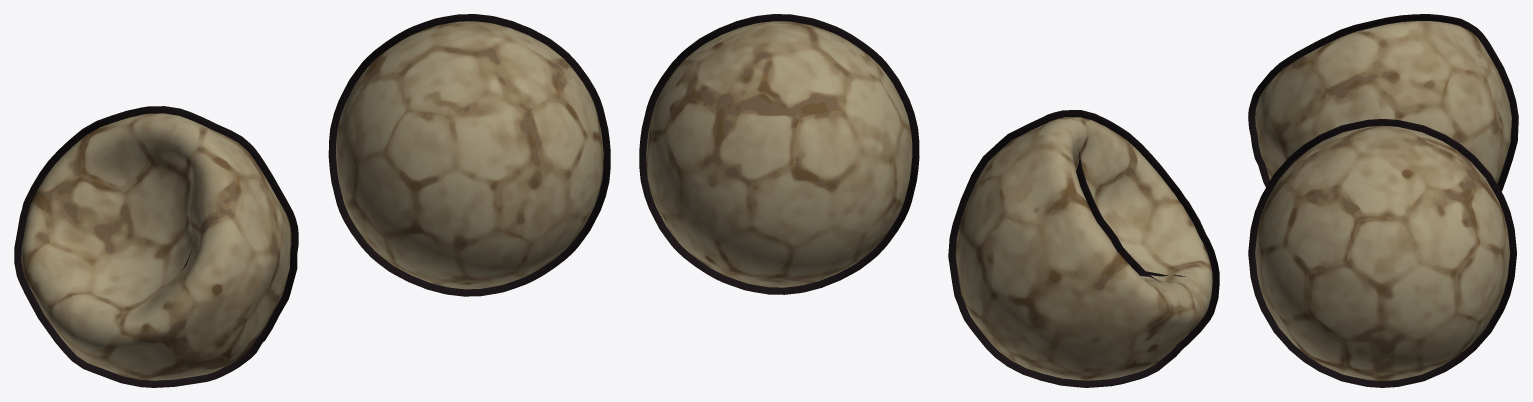
File: SM_Int_Ball.fbx
The picture shows the model from 3 angles, left to right: view 1: azimuth 30°, elevation 25°; view 2: azimuth 150°, elevation 25°; view 3: azimuth 270°, elevation 25°; orthographic projection. The views are drawn at different scales.
Visible parts, largest first — view 1: SM_Int_Ball; view 2: SM_Int_Ball; view 3: SM_Int_Ball.
Part boxes in pixels (x1,y1,x2,y2): SM_Int_Ball: (14, 14, 610, 387); SM_Int_Ball: (639, 14, 1219, 387); SM_Int_Ball: (1248, 14, 1518, 387).
Bounding box in the file's own units: 0.5208 × 0.2339 × 0.2341.
